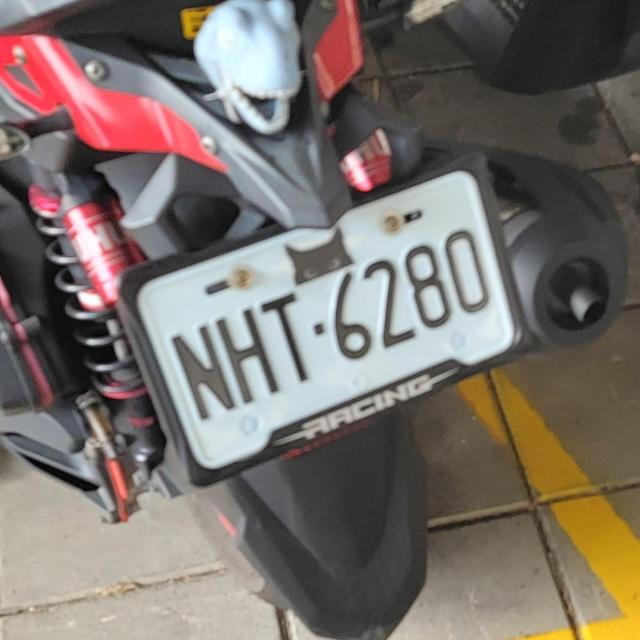W: (107, 167, 553, 482)
